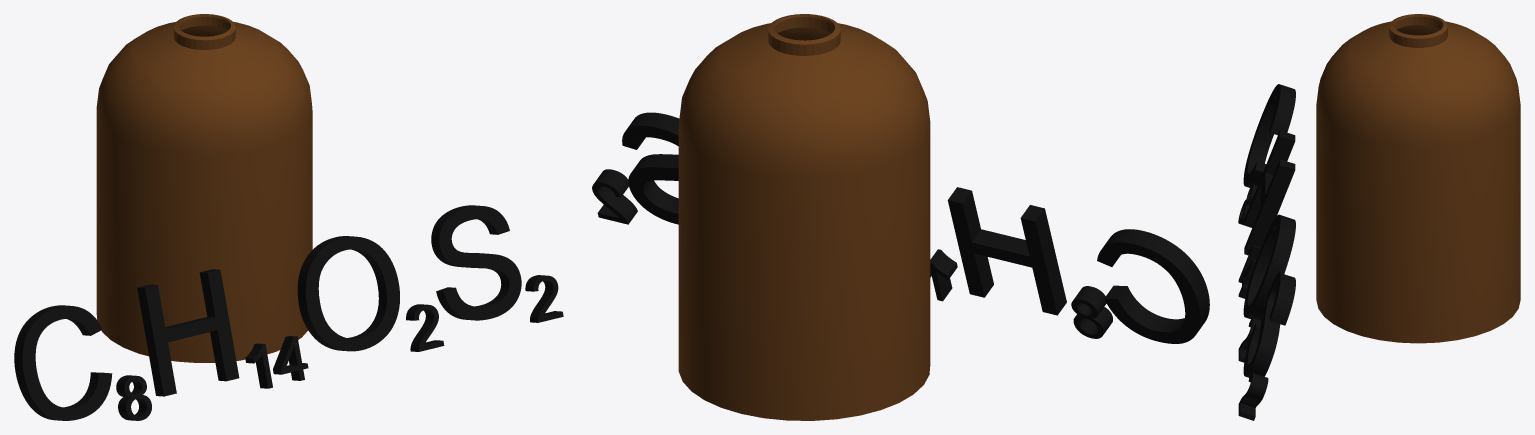
3 views of the same model, side by side, from view 1: azimuth 30°, elevation 25°; view 2: azimuth 150°, elevation 25°; view 3: azimuth 270°, elevation 25° (orthographic). The views are drawn at different scales.
Visible parts, largest first — view 1: C8H14O2S2; view 2: C8H14O2S2; view 3: C8H14O2S2.
Part boxes in pixels (x1,y1,x2,y2): C8H14O2S2: [14, 14, 563, 420]; C8H14O2S2: [592, 14, 1209, 420]; C8H14O2S2: [1238, 14, 1520, 420].
Size of the model in its own units: 0.2814 by 0.1488 by 0.1382.
